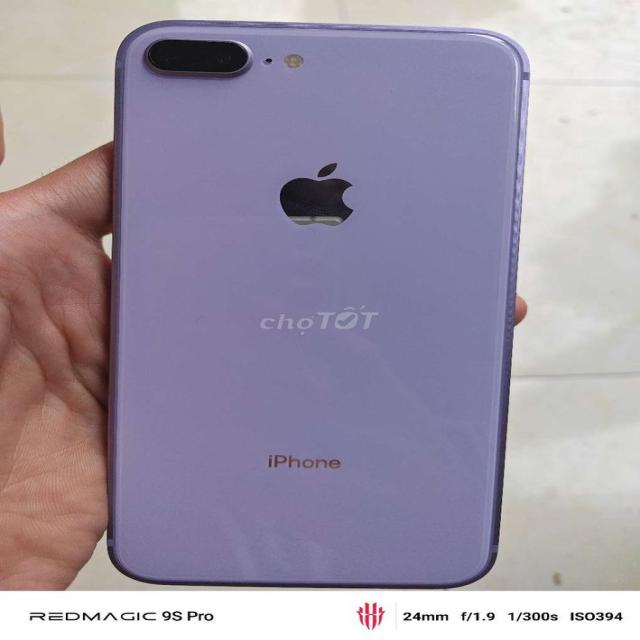scratch: (183, 16, 487, 36)
